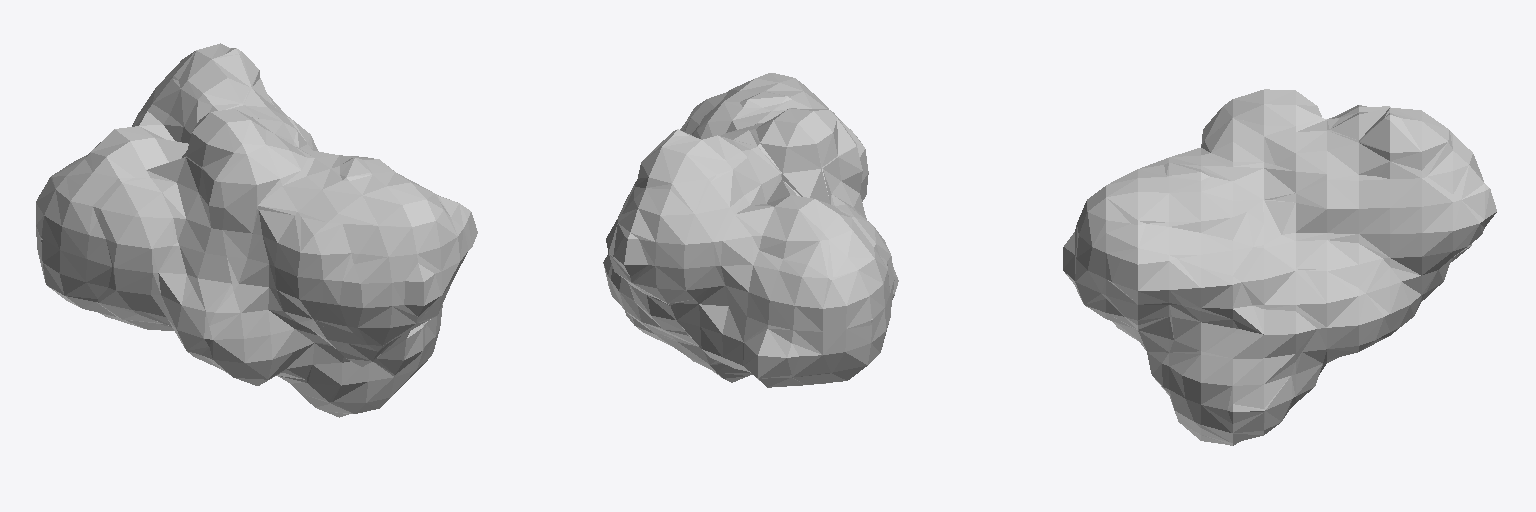
File: 1lpf_cms.obj
3 views of the same model, side by side, from view 1: azimuth 30°, elevation 25°; view 2: azimuth 150°, elevation 25°; view 3: azimuth 270°, elevation 25° (orthographic).
Bounding box in the file's own units: 89.9 × 85.3 × 106.